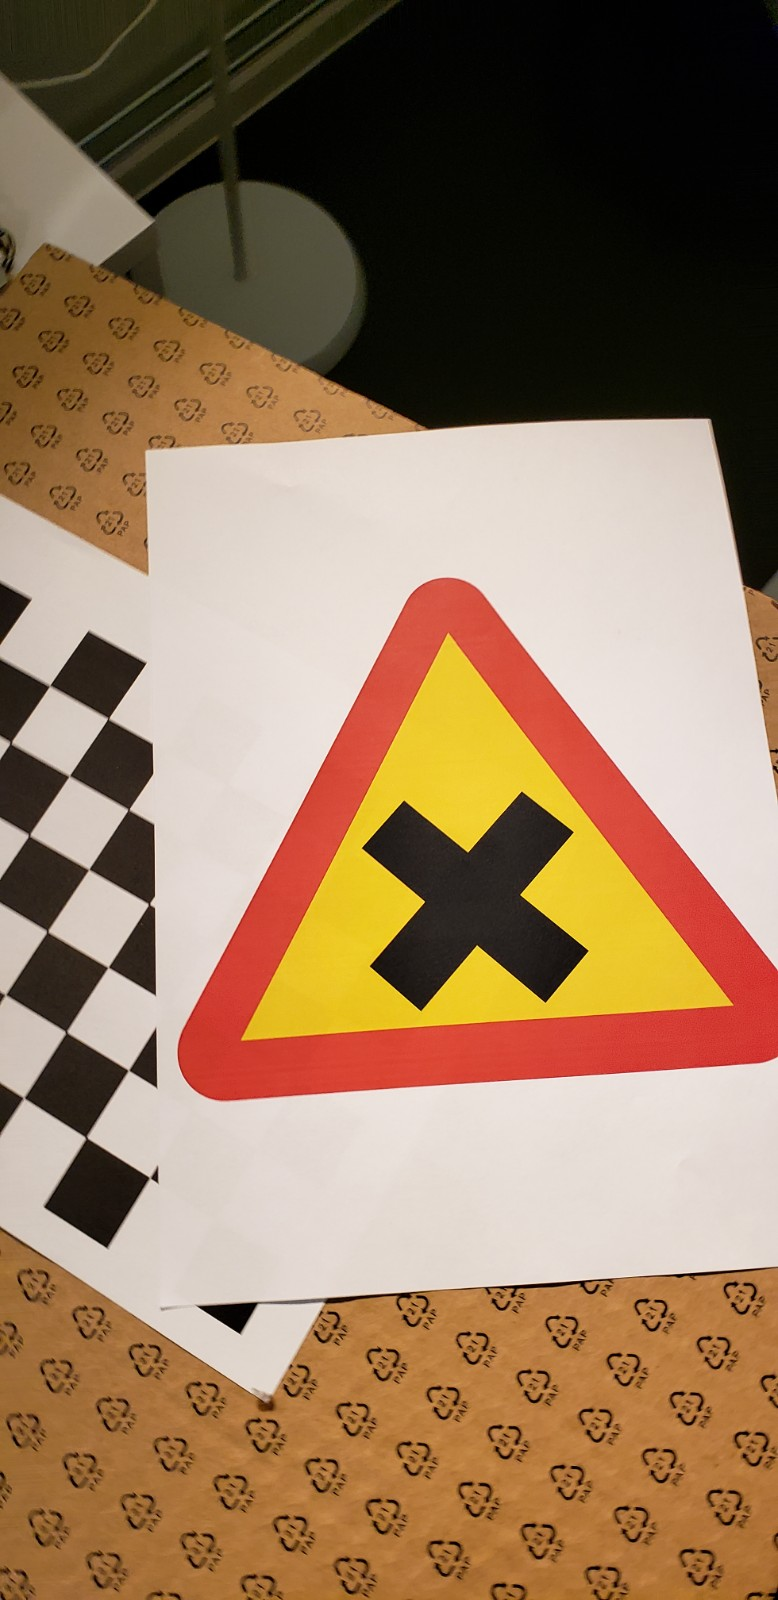junction: (147, 577, 778, 1093)
